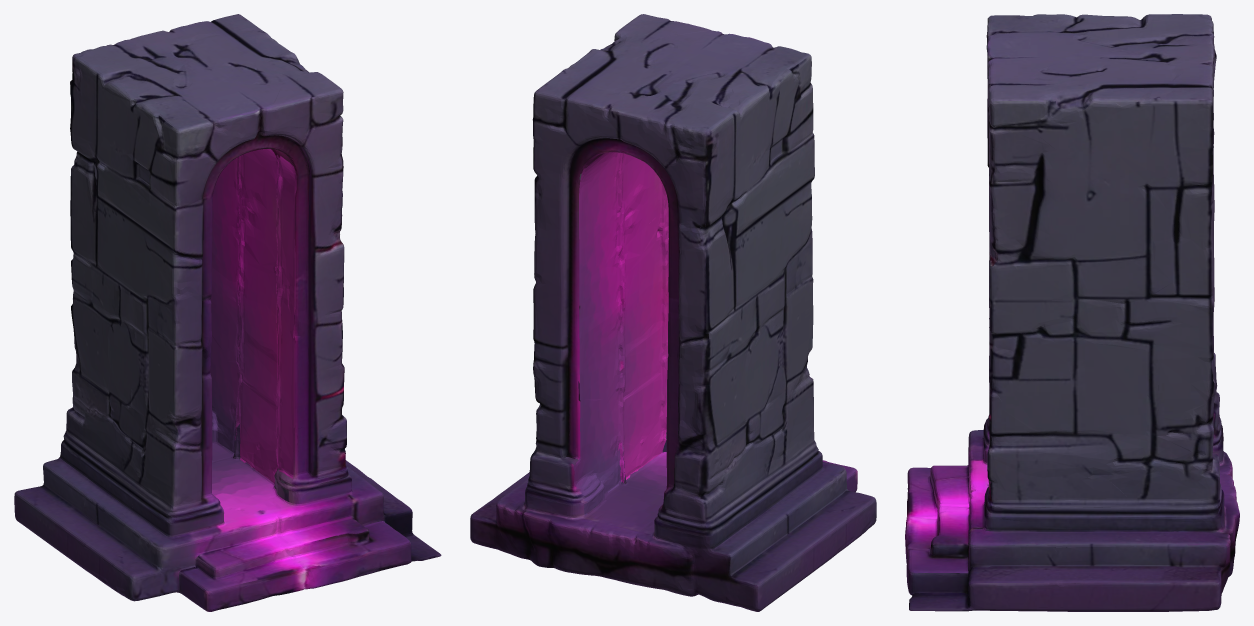
File: solitude-pillar-12-generated-2026-04-19T23-57-40-585Z.high.glb
3 renders of one model, left to right at view 1: azimuth 30°, elevation 25°; view 2: azimuth 150°, elevation 25°; view 3: azimuth 270°, elevation 25°, orthographic. The views are drawn at different scales.
Visible parts, largest first — view 1: temp_mesh.ply; view 2: temp_mesh.ply; view 3: temp_mesh.ply.
Boxes of the visible parts, left/top/right/bottom form: temp_mesh.ply: left=14, top=14, right=441, bottom=611; temp_mesh.ply: left=470, top=14, right=876, bottom=611; temp_mesh.ply: left=905, top=14, right=1239, bottom=611.
Size of the model in its own units: 1.28 by 1.97 by 1.24.
1 material, 1 textured.
